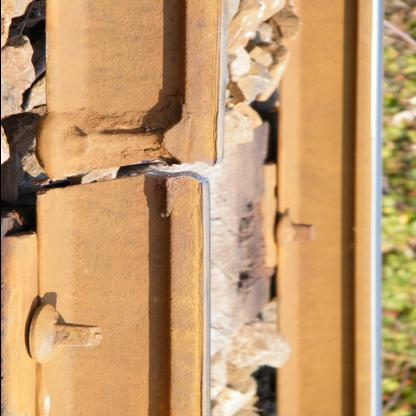Defective 2: (0, 62, 257, 276)
